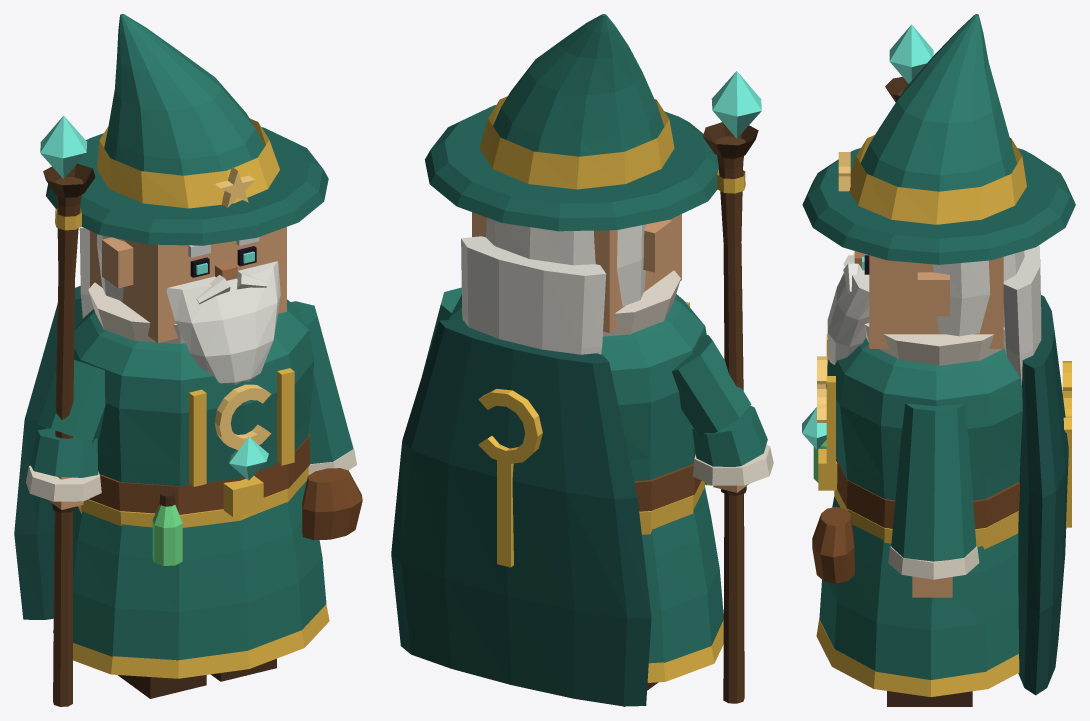
Rendered from buyucu-sifaci.obj.
The picture shows the model from 3 angles, left to right: view 1: azimuth 30°, elevation 25°; view 2: azimuth 150°, elevation 25°; view 3: azimuth 270°, elevation 25°; orthographic projection. The views are drawn at different scales.
Visible parts, largest first — view 1: etek, govde, sapka, sapka-kenari, kollar, uzun-sakal, asa, kafa, uzun-pelerin, sapka-bandi, etek-kenari, kemer (+16 smaller); view 2: uzun-pelerin, sapka-kenari, sapka, uzun-sac, govde, etek, asa, kollar, sapka-bandi, sac, pelerin-runlari, kafa (+8 smaller); view 3: etek, govde, sapka, uzun-pelerin, sapka-kenari, kollar, sapka-bandi, kafa, etek-kenari, uzun-sac, sac, yaka (+15 smaller).
Part boxes in pixels (x1,y1,x2,y2): etek: [73, 481, 326, 660]; govde: [74, 299, 314, 486]; sapka: [104, 14, 264, 175]; sapka-kenari: [46, 127, 328, 245]; kollar: [30, 301, 353, 477]; uzun-sakal: [166, 261, 280, 384]; asa: [53, 176, 83, 706]; kafa: [90, 227, 286, 342]; uzun-pelerin: [14, 286, 82, 619]; sapka-bandi: [97, 118, 279, 208]; etek-kenari: [53, 604, 329, 678]; kemer: [88, 433, 309, 514]; uzun-pelerin: [391, 319, 651, 706]; sapka-kenari: [425, 105, 718, 231]; sapka: [493, 14, 664, 156]; uzun-sac: [461, 236, 606, 354]; govde: [448, 294, 706, 481]; etek: [642, 487, 723, 663]; asa: [715, 136, 745, 703]; kollar: [422, 287, 767, 466]; sapka-bandi: [479, 96, 674, 189]; sac: [486, 217, 646, 306]; pelerin-runlari: [478, 389, 542, 567]; kafa: [472, 212, 681, 332]; etek: [819, 496, 1018, 679]; govde: [826, 338, 1022, 500]; sapka: [860, 14, 1017, 191]; uzun-pelerin: [1018, 295, 1068, 695]; sapka-kenari: [802, 148, 1075, 264]; kollar: [891, 403, 976, 561]; sapka-bandi: [849, 135, 1026, 224]; kafa: [869, 255, 1003, 348]; etek-kenari: [816, 619, 1019, 696]; uzun-sac: [1003, 245, 1041, 384]; sac: [933, 251, 1024, 336]; yaka: [864, 323, 1004, 365].
Bounding box in the file's own units: 28.3 × 52.6 × 20.43.
